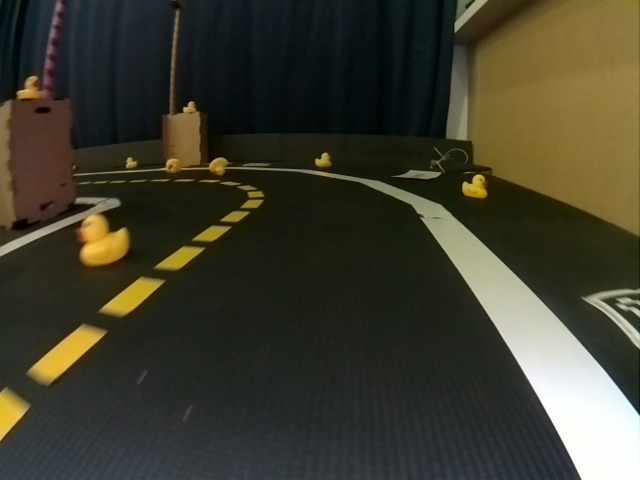Duckie: (78, 214, 130, 265), (17, 77, 42, 100), (462, 175, 486, 197), (208, 157, 229, 174), (314, 153, 331, 167), (164, 159, 180, 172), (125, 157, 138, 167), (183, 102, 196, 111)
QR code: (245, 161, 266, 170)
